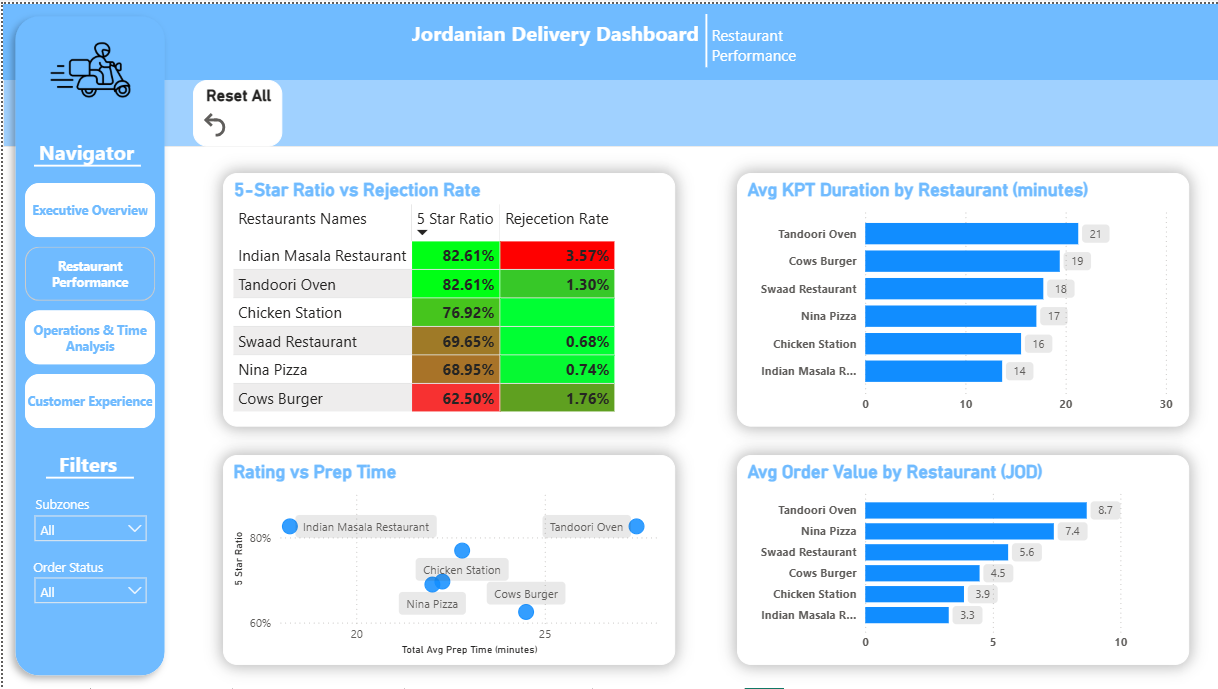

Layout of this report page (visuals, bound fields, positions):
{"tool":"powerbi","page":{"name":"Restaurant Performance","canvas":[1280,720],"ordinal":1},"visuals":[{"type":"textbox","box":[741.2,0,112,76.8],"z":0,"group":"g1"},{"type":"shape","box":[0,70,1280,80],"z":0},{"type":"shape","box":[0,0,1280,80],"z":1000},{"type":"shape","box":[703.8,10.9,74.5,56.2],"z":1000,"group":"g1"},{"type":"textbox","box":[425.6,10.7,315.6,76.8],"z":2000,"group":"g1"},{"type":"pivotTable","title":"5-Star Ratio vs Rejection Rate","fields":{"Rows":["order_history.Restaurants Names"],"Values":["order_history.5 Star Ratio","order_history.Rejecetion Rate"]},"box":[231.2,177.5,475.7,267.1],"z":2000,"group":"g2"},{"type":"scatterChart","title":"Rating vs Prep Time","fields":{"X":["order_history.Total Avg Prep Time (minutes)"],"Y":["order_history.5 Star Ratio"],"Category":["order_history.Restaurants Names"]},"box":[231.2,474.6,475.7,221.4],"z":3000,"group":"g2"},{"type":"shape","box":[0,0,183.2,719.9],"z":4000},{"type":"image","box":[41.6,27.3,100.1,84.5],"z":5000},{"type":"textbox","box":[32.5,136.2,112.5,42.5],"z":6000},{"type":"pageNavigator","box":[23.4,188.4,137.7,258.6],"z":7000},{"type":"shape","box":[32.5,136.2,112.5,68.8],"z":8000},{"type":"textbox","box":[25.8,464.2,126.3,41.6],"z":9000},{"type":"slicer","title":"Subzones","fields":{"Values":["order_history.Subzones"]},"box":[23,528,138,46],"z":10000},{"type":"slicer","title":"Subzones","fields":{"Values":["order_history.Order Status"]},"box":[23,594,138,46],"z":11000},{"type":"textbox","box":[10,513,104,30],"z":12000},{"type":"textbox","box":[23,579,91,30],"z":13000},{"type":"shape","box":[45,463.8,92.5,68.8],"z":14000},{"type":"actionButton","title":"Reset All","box":[200,80,94.4,70],"z":15000},{"type":"group","id":"g1","title":"Group 4","box":[425.6,0,427.8,87.8],"z":16000},{"type":"barChart","title":"Avg KPT Duration by Restaurant (minutes)","fields":{"Category":["order_history.Restaurants Names"],"Y":["Avg(order_history.KPT duration (minutes))"]},"box":[772.6,177.5,475.7,267.1],"z":17000,"group":"g2"},{"type":"clusteredBarChart","title":"Avg Order Value by Restaurant (JOD)","fields":{"Category":["order_history.Restaurants Names"],"Y":["Avg(order_history.Total)"]},"box":[772.6,474.6,475.7,221.4],"z":18000,"group":"g2"},{"type":"group","id":"g2","title":"Group 1","box":[231.2,177.5,1017.5,518.8],"z":18001}]}

Visuals, with their boxes in screenshot pixels (x1, y1, x2, y2), scaled from the page's 1280x720 canvas onto the 1218x689 screenshot:
textbox: detection(705, 0, 812, 73)
shape: detection(0, 67, 1217, 144)
shape: detection(0, 0, 1217, 77)
shape: detection(670, 10, 741, 64)
textbox: detection(405, 10, 705, 84)
"5-Star Ratio vs Rejection Rate" pivotTable: detection(220, 170, 673, 425)
"Rating vs Prep Time" scatterChart: detection(220, 454, 673, 666)
shape: detection(0, 0, 174, 688)
image: detection(40, 26, 135, 107)
textbox: detection(31, 130, 138, 171)
pageNavigator: detection(22, 180, 153, 428)
shape: detection(31, 130, 138, 196)
textbox: detection(25, 444, 145, 484)
"Subzones" slicer: detection(22, 505, 153, 549)
"Subzones" slicer: detection(22, 568, 153, 612)
textbox: detection(10, 491, 108, 520)
textbox: detection(22, 554, 108, 583)
shape: detection(43, 444, 131, 510)
"Reset All" actionButton: detection(190, 77, 280, 144)
"Group 4" group: detection(405, 0, 812, 84)
"Avg KPT Duration by Restaurant (minutes)" barChart: detection(735, 170, 1188, 425)
"Avg Order Value by Restaurant (JOD)" clusteredBarChart: detection(735, 454, 1188, 666)
"Group 1" group: detection(220, 170, 1188, 666)
